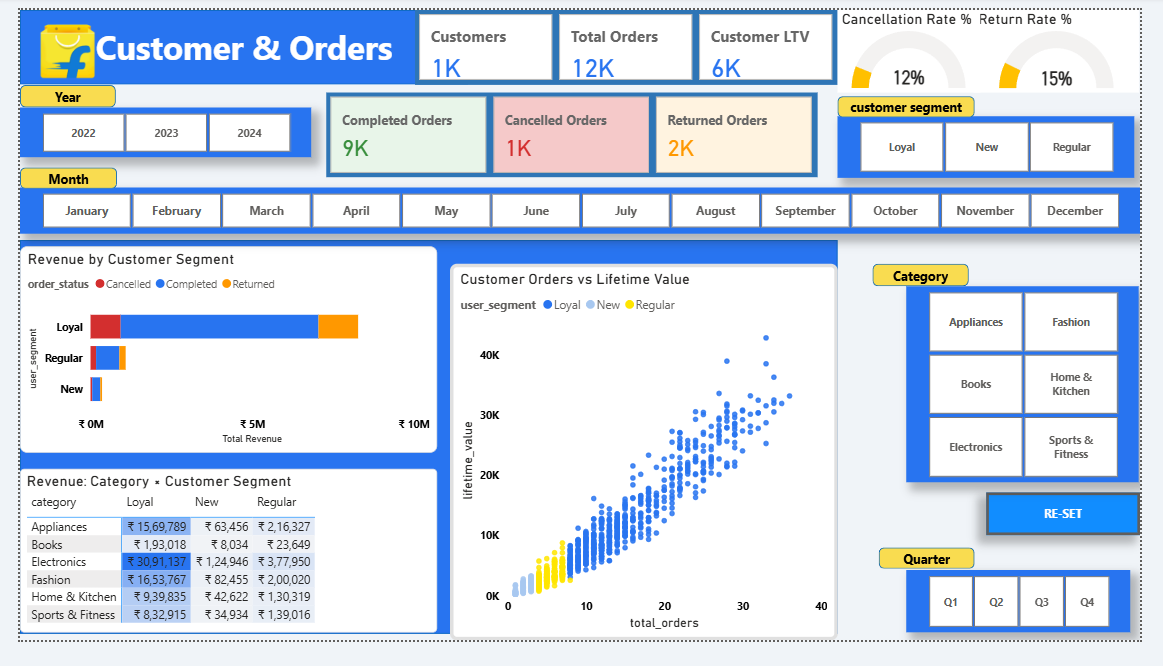

The page's visual inventory and layout, read from the dashboard file:
{"tool":"powerbi","page":{"name":"Customer & Orders","canvas":[1280,720],"ordinal":1},"visuals":[{"type":"shape","box":[0,262.9,934.3,450],"z":0},{"type":"shape","box":[0,0,512.2,85.1],"z":1000},{"type":"image","box":[0,0,109,94.9],"z":2000},{"type":"cardVisual","fields":{"Data":["Customer_measures.Unique Customers","Order_measures.Total Orders","Customer_measures.Customer Lifetime Value"]},"box":[451.4,0,482.9,85.7],"z":3000},{"type":"barChart","title":"Revenue by Customer Segment","fields":{"Y":["revenue_measures.Total Revenue"],"Category":["dim_users.user_segment"],"Series":["fact_orders.order_status"]},"box":[0,270,477.1,235.7],"z":4000},{"type":"pivotTable","title":"Revenue: Category × Customer Segment","fields":{"Rows":["dim_products.category"],"Columns":["dim_users.user_segment"],"Values":["revenue_measures.Total Revenue"]},"box":[0,524.3,477.1,187.1],"z":5000},{"type":"scatterChart","title":"Customer Orders vs Lifetime Value","fields":{"Series":["dim_users.user_segment"],"Y":["dim_users.lifetime_value"],"X":["dim_users.total_orders"]},"box":[491.4,290,442.9,430],"z":6000},{"type":"slicer","fields":{"Values":["dim_users.user_segment"]},"box":[933.8,121.6,339.2,70.3],"z":7000},{"type":"actionButton","box":[1104.1,551.4,175.7,48.6],"z":8000},{"type":"slicer","fields":{"Values":["Date_Table.Year"]},"box":[0,111.4,332.9,57.1],"z":9000},{"type":"slicer","fields":{"Values":["Date_Table.Month Name"]},"box":[0,202.9,1280,52.9],"z":10000},{"type":"gauge","fields":{"Y":["Order_measures.Return Rate %"]},"box":[1090.5,0,189.2,94.6],"z":11000},{"type":"gauge","fields":{"Y":["Order_measures.Cancellation Rate %"]},"box":[934.3,0,162.9,94.3],"z":12000},{"type":"slicer","fields":{"Values":["dim_products.category"]},"box":[1012.9,315.7,265.7,224.3],"z":13000},{"type":"slicer","fields":{"Values":["Date_Table.Quarter"]},"box":[1012.9,640,255.7,71.4],"z":14000},{"type":"shape","box":[0,85.1,109.5,25.7],"z":15000},{"type":"shape","box":[0,179.7,110.8,24.3],"z":16000},{"type":"shape","box":[981.1,614.9,109.5,24.3],"z":17000},{"type":"shape","box":[974.3,290,110,25.7],"z":18000},{"type":"shape","box":[933.8,98.6,156.8,24.3],"z":19000},{"type":"cardVisual","fields":{"Data":["Order_measures.Completed Orders","Order_measures.Cancelled Orders","Order_measures.Returned Orders"]},"box":[350,94.3,561.4,97.1],"z":20000}]}

Visuals, with their boxes in screenshot pixels (x1, y1, x2, y2), scaled from the page's 1280x720 canvas onto the 1163x666 screenshot:
shape: {"left": 0, "top": 243, "right": 849, "bottom": 659}
shape: {"left": 0, "top": 0, "right": 465, "bottom": 79}
image: {"left": 0, "top": 0, "right": 99, "bottom": 88}
cardVisual - Customer_measures.Unique Customers x Order_measures.Total Orders: {"left": 410, "top": 0, "right": 849, "bottom": 79}
"Revenue by Customer Segment" barChart: {"left": 0, "top": 250, "right": 433, "bottom": 468}
"Revenue: Category × Customer Segment" pivotTable: {"left": 0, "top": 485, "right": 433, "bottom": 658}
"Customer Orders vs Lifetime Value" scatterChart: {"left": 446, "top": 268, "right": 849, "bottom": 665}
slicer - dim_users.user_segment: {"left": 848, "top": 112, "right": 1157, "bottom": 178}
actionButton: {"left": 1003, "top": 510, "right": 1162, "bottom": 555}
slicer - Date_Table.Year: {"left": 0, "top": 103, "right": 302, "bottom": 156}
slicer - Date_Table.Month Name: {"left": 0, "top": 188, "right": 1162, "bottom": 237}
gauge - Order_measures.Return Rate %: {"left": 991, "top": 0, "right": 1162, "bottom": 88}
gauge - Order_measures.Cancellation Rate %: {"left": 849, "top": 0, "right": 997, "bottom": 87}
slicer - dim_products.category: {"left": 920, "top": 292, "right": 1162, "bottom": 500}
slicer - Date_Table.Quarter: {"left": 920, "top": 592, "right": 1153, "bottom": 658}
shape: {"left": 0, "top": 79, "right": 99, "bottom": 102}
shape: {"left": 0, "top": 166, "right": 101, "bottom": 189}
shape: {"left": 891, "top": 569, "right": 991, "bottom": 591}
shape: {"left": 885, "top": 268, "right": 985, "bottom": 292}
shape: {"left": 848, "top": 91, "right": 991, "bottom": 114}
cardVisual - Order_measures.Completed Orders x Order_measures.Cancelled Orders: {"left": 318, "top": 87, "right": 828, "bottom": 177}
